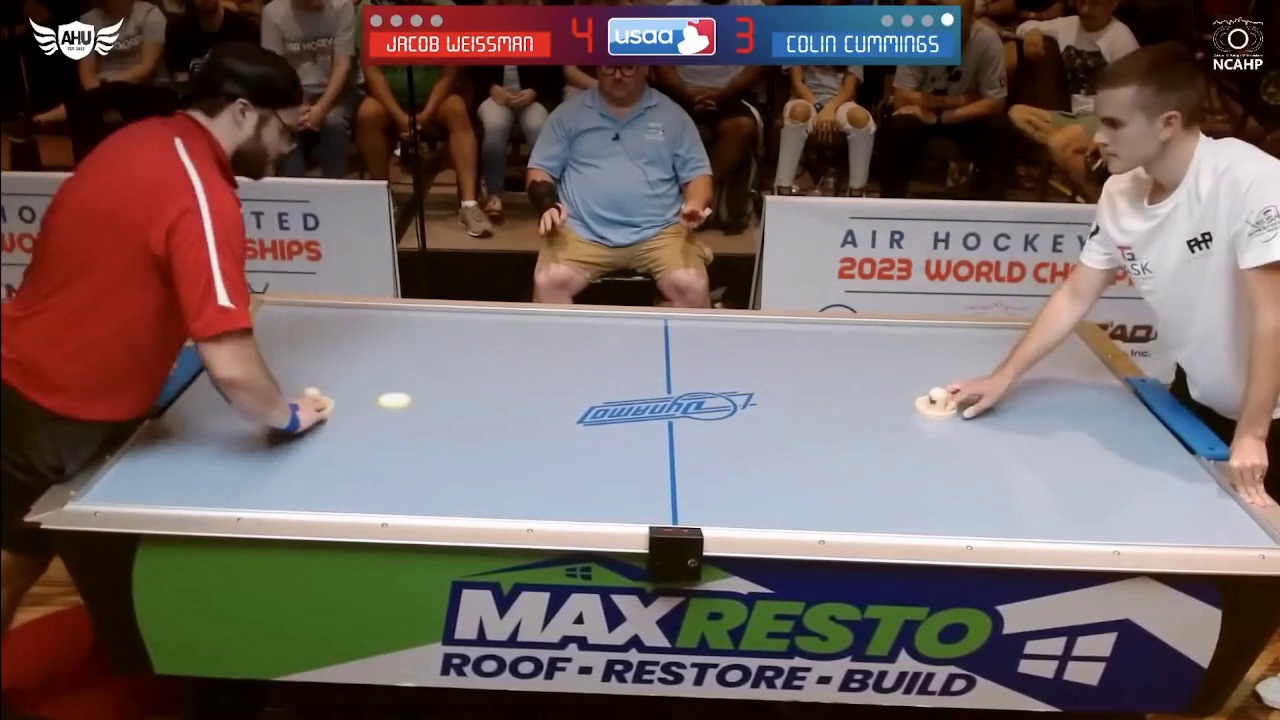player: (910, 383, 963, 418), (296, 383, 338, 414)
puck: (373, 391, 413, 410)
table: (85, 305, 1280, 566)
